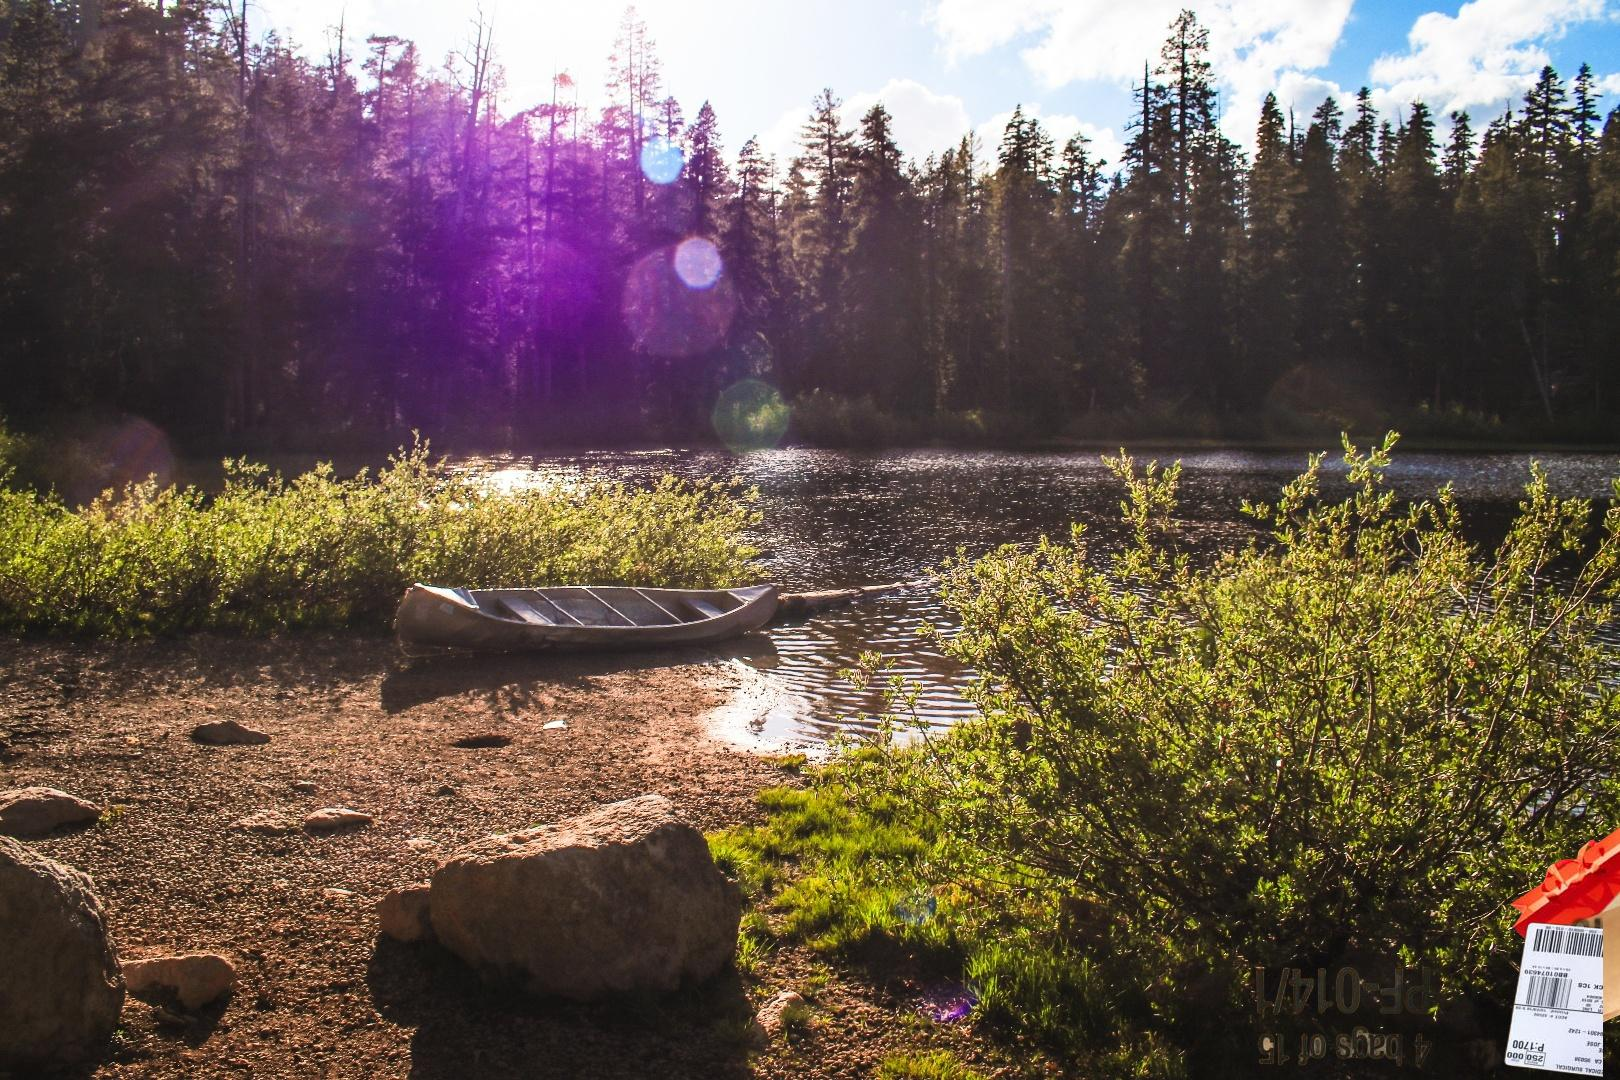paper-bag: (1508, 810, 1620, 1025)
trashbox-cardboard: (1252, 909, 1603, 1080)
